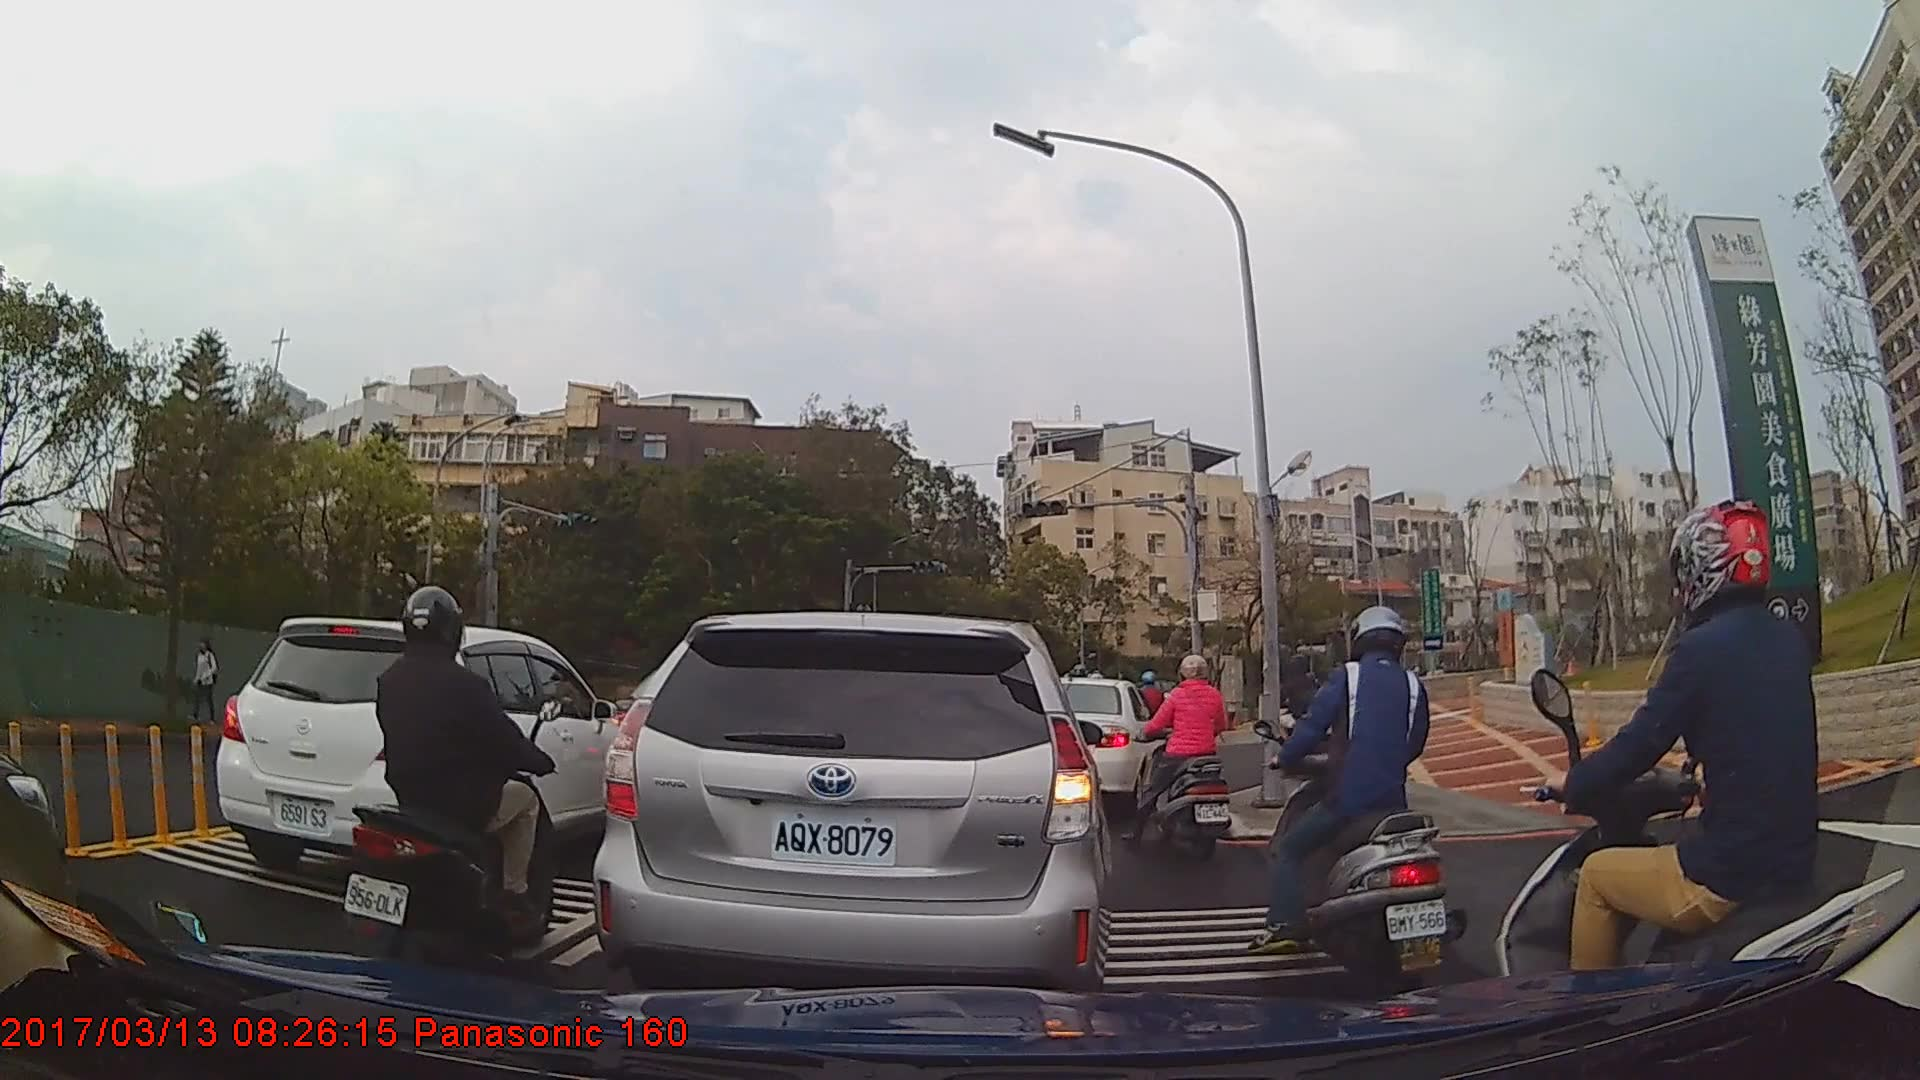pedestrian: (189, 640, 223, 721)
rider: (1490, 502, 1904, 1058), (344, 587, 568, 984), (1262, 608, 1451, 988), (1126, 653, 1235, 864)
vehicle: (594, 612, 1115, 1005), (216, 615, 633, 899), (1053, 677, 1168, 813)
